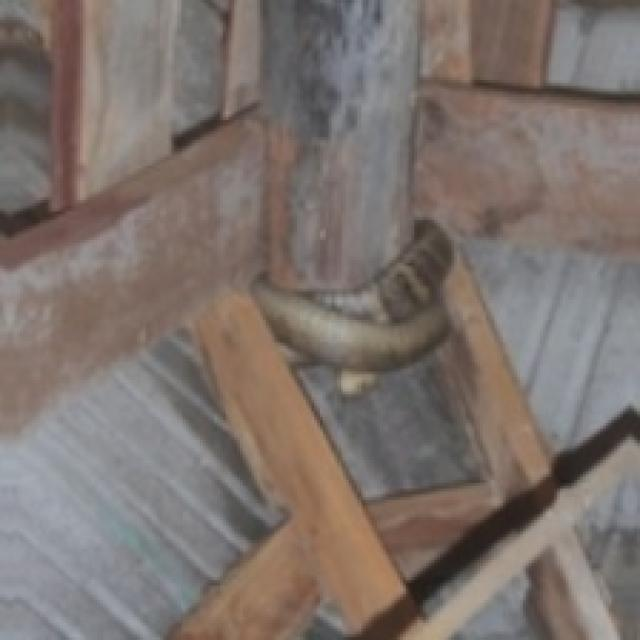king cobra: (251, 220, 451, 391)
